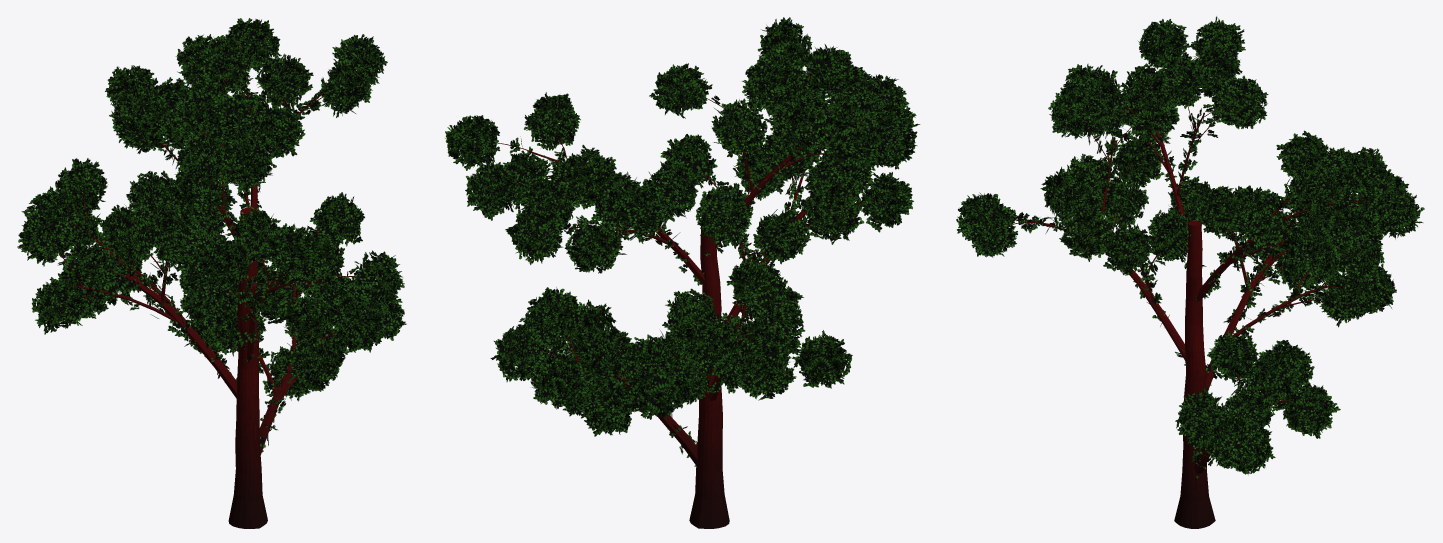
File: evergreen_broad_v03.glb
3 views of the same model, side by side, from view 1: azimuth 30°, elevation 25°; view 2: azimuth 150°, elevation 25°; view 3: azimuth 270°, elevation 25° (orthographic). The views are drawn at different scales.
Visible parts, largest first — view 1: evergreen_broad_v03; view 2: evergreen_broad_v03; view 3: evergreen_broad_v03.
Boxes of the visible parts, bbox=[...] form: evergreen_broad_v03: bbox=[17, 18, 406, 528]; evergreen_broad_v03: bbox=[445, 17, 920, 528]; evergreen_broad_v03: bbox=[956, 16, 1424, 528].
Size of the model in its own units: 22.32 by 26.72 by 25.46.
2 materials, 2 textured.
